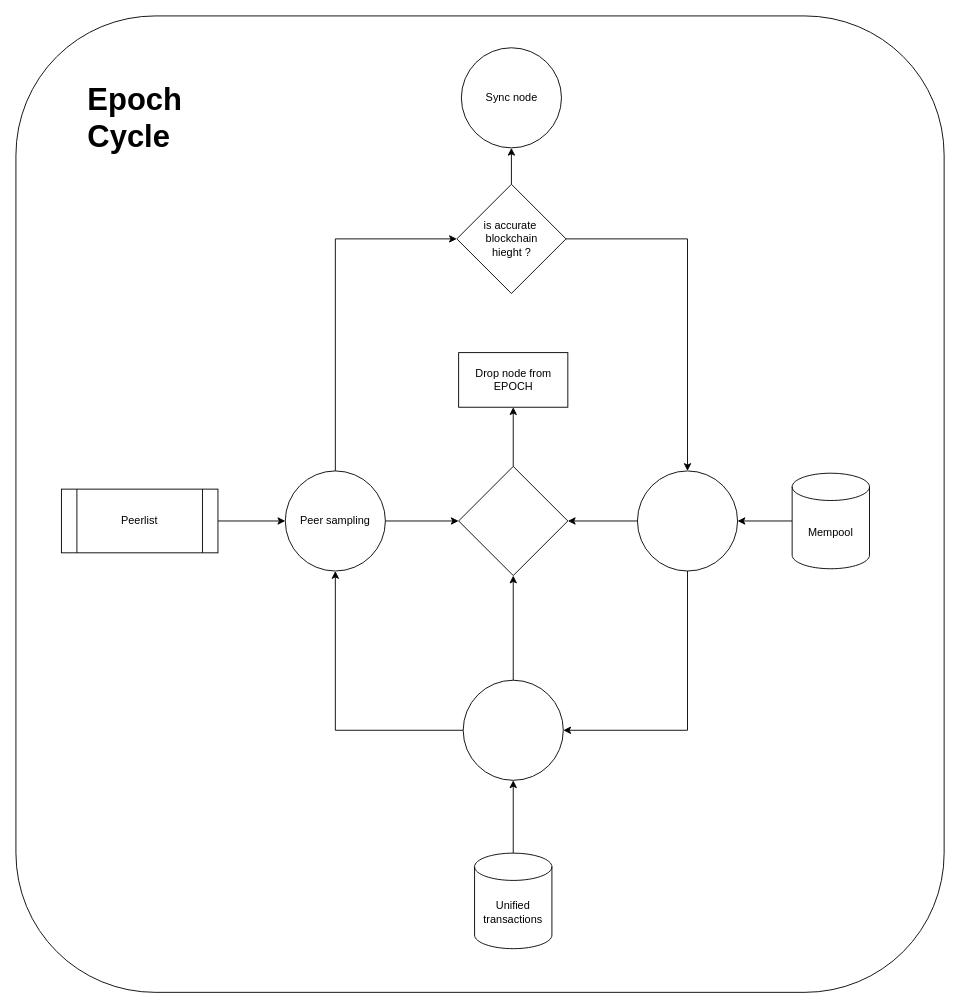
Some shapes in this 960 by 1008 pixel diagram are drawn without their labels. Each missing label, with the box of its shape:
Network Wide Voting: (462, 679, 563, 780)
TIMEOUT: (458, 465, 568, 576)
Transaction Balloting: (637, 470, 738, 571)
